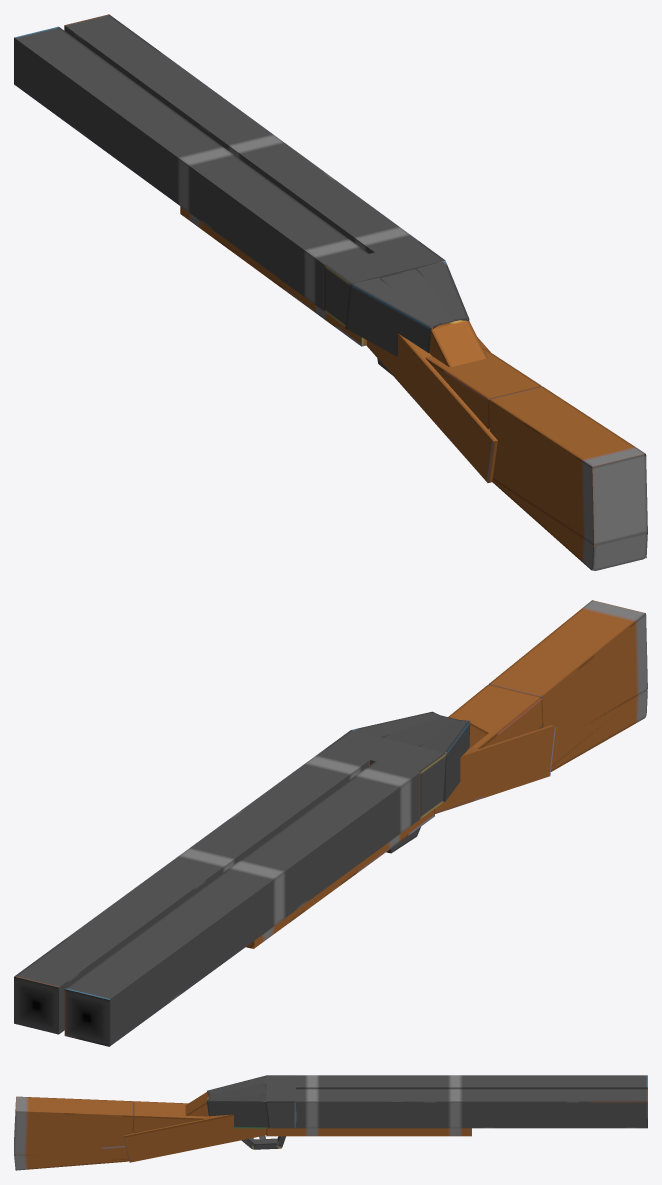
The model's file is shotgun_model.fbx.
3 renders of one model, top to bottom at view 1: azimuth 30°, elevation 25°; view 2: azimuth 150°, elevation 25°; view 3: azimuth 270°, elevation 25°, orthographic. The views are drawn at different scales.
Parts seen in each view (by area): view 1: cube, cube_3, cube_5, cube_2, cube_11, cube_12, cube_4, cube_10, cube_14, cube_15, cube_1, cube_13; view 2: cube, cube_5, cube_3, cube_2, cube_12, cube_4, cube_10, cube_11, cube_1, cube_15, cube_13; view 3: cube_5, cube_3, cube, cube_2, cube_10, cube_1, cube_13, cube_12, cube_4, cube_15, cube_14, cube_11 (+1 smaller).
Part boxes in pixels (x1,y1,x2,y2): cube: (14, 26, 368, 310); cube_3: (489, 386, 647, 545); cube_5: (64, 14, 419, 253); cube_2: (366, 333, 497, 482); cube_11: (345, 277, 441, 356); cube_12: (324, 241, 445, 326); cube_4: (425, 347, 541, 429); cube_10: (492, 480, 647, 570); cube_14: (429, 319, 487, 367); cube_15: (380, 268, 458, 324); cube_1: (180, 206, 366, 346); cube_13: (417, 260, 469, 320); cube: (64, 761, 420, 1046); cube_5: (14, 749, 369, 1034); cube_3: (488, 600, 647, 767); cube_2: (435, 725, 555, 813); cube_12: (325, 730, 446, 818); cube_4: (448, 684, 543, 749); cube_10: (551, 689, 647, 771); cube_11: (420, 719, 470, 801); cube_1: (246, 809, 434, 948); cube_15: (381, 715, 457, 752); cube_13: (352, 711, 441, 737); cube_5: (295, 1089, 647, 1128); cube_3: (14, 1096, 133, 1159); cube: (295, 1075, 647, 1089); cube_2: (123, 1114, 266, 1162); cube_10: (14, 1146, 128, 1170); cube_1: (266, 1128, 471, 1136); cube_13: (207, 1094, 270, 1128); cube_12: (266, 1075, 295, 1128); cube_4: (132, 1101, 205, 1133); cube_15: (208, 1084, 266, 1098); cube_14: (185, 1092, 208, 1116); cube_11: (207, 1075, 266, 1093).
Bounding box in the file's own units: 13.77 × 17.49 × 135.
Materials: 1 (1 with a texture image).
